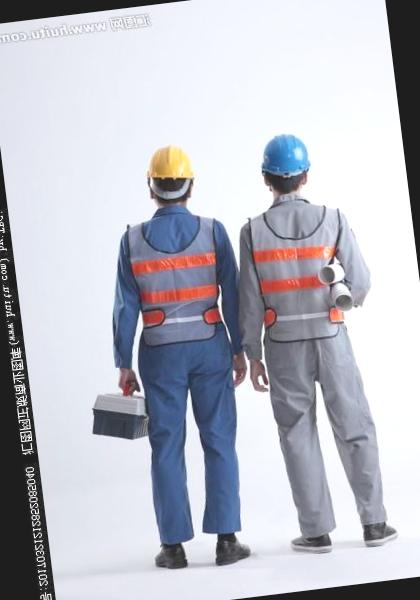helmet: (143, 144, 196, 185), (262, 131, 312, 174)
person: (85, 141, 278, 582), (219, 120, 408, 564)
